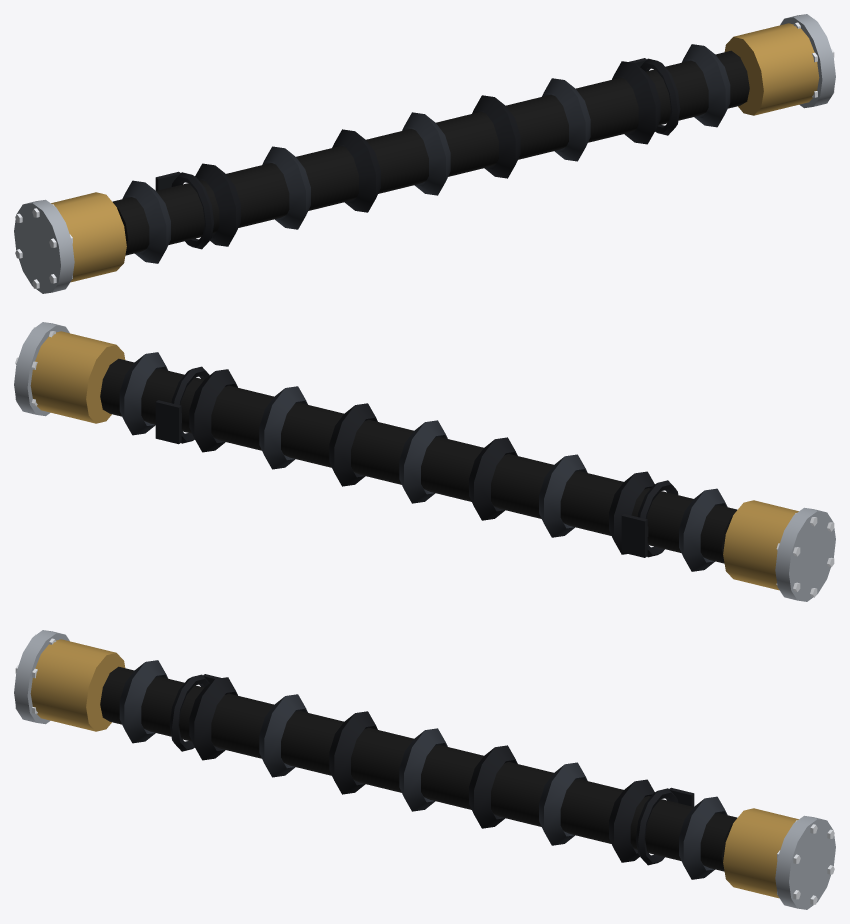
File: pipe_corrugated_hose.glb
The picture shows the model from 3 angles, top to bottom: view 1: azimuth 30°, elevation 25°; view 2: azimuth 150°, elevation 25°; view 3: azimuth 330°, elevation 25°; orthographic projection.
Visible parts, largest first — view 1: pipe_corrugated_hose; view 2: pipe_corrugated_hose; view 3: pipe_corrugated_hose.
Boxes of the visible parts, x1=… form: pipe_corrugated_hose: x1=14, y1=14, x2=835, y2=293; pipe_corrugated_hose: x1=14, y1=322, x2=835, y2=601; pipe_corrugated_hose: x1=14, y1=630, x2=835, y2=909.
Bounding box in the file's own units: 2.01 × 0.2047 × 0.215.
